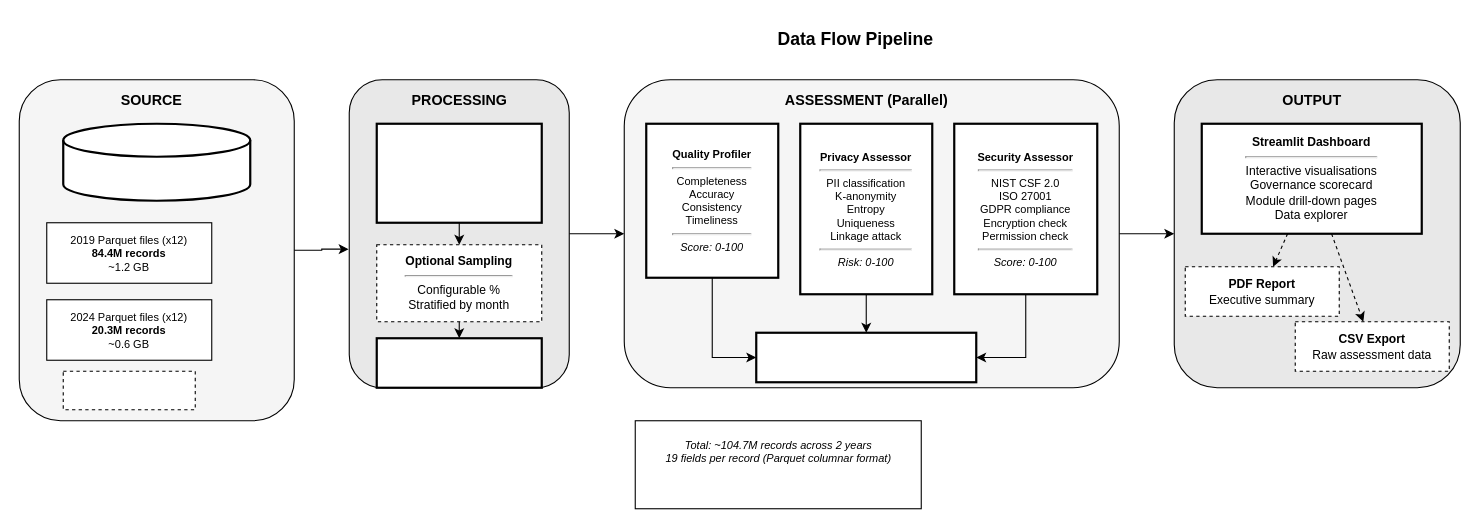
Some shapes in this 1480 by 528 pixel diagram are drawn without their labels. The shapes that lost their labels are listed below. From the top down, each one's centre as x and y in pixels, then its label:
At point (156, 161): "NYC TLC Open Data (Yellow Taxi Trip Records)".
At point (458, 172): "data_loader.py Read Parquet files Merge with zones Type validation".
At point (458, 362): "Pandas DataFrame 19 columns per record".
At point (866, 357): "JSON Results {quality, privacy, security}".
At point (128, 390): "taxi_zones.csv 265 zones".
